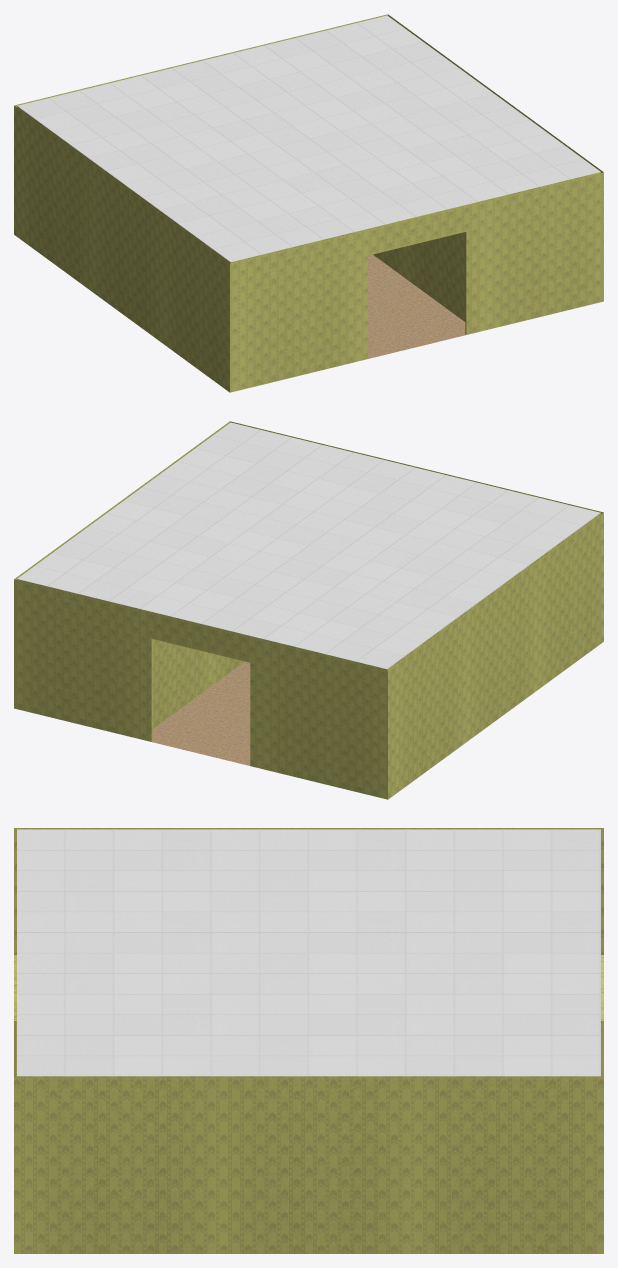
The model's file is 2exitcorridor.glb.
3 renders of one model, top to bottom at view 1: azimuth 30°, elevation 25°; view 2: azimuth 150°, elevation 25°; view 3: azimuth 270°, elevation 25°, orthographic. The views are drawn at different scales.
Visible parts, largest first — view 1: 2exitcorridor; view 2: 2exitcorridor; view 3: 2exitcorridor.
Part boxes in pixels (bbox=[...]): 2exitcorridor: bbox=[14, 14, 603, 392]; 2exitcorridor: bbox=[14, 421, 603, 799]; 2exitcorridor: bbox=[14, 828, 603, 1253].
Size of what is drawn, in the model's own units: 15.15 by 5 by 15.15.
3 materials, 3 textured.
